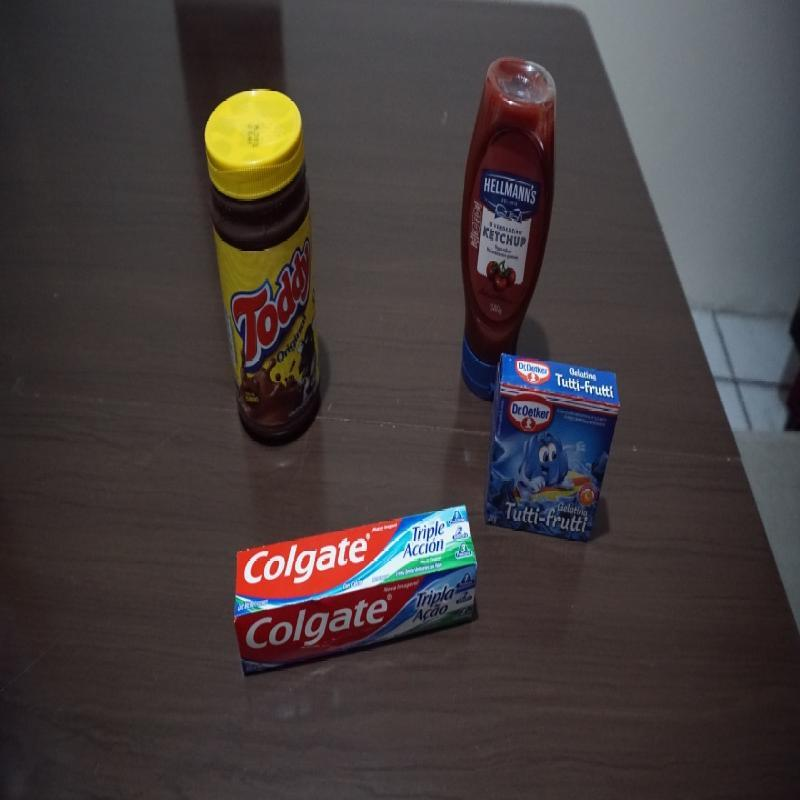Chocolate Powder: (201, 86, 324, 450)
Gelatine: (481, 349, 622, 544)
Ketchup: (460, 52, 560, 403)
Toothpaste: (233, 500, 480, 680)
